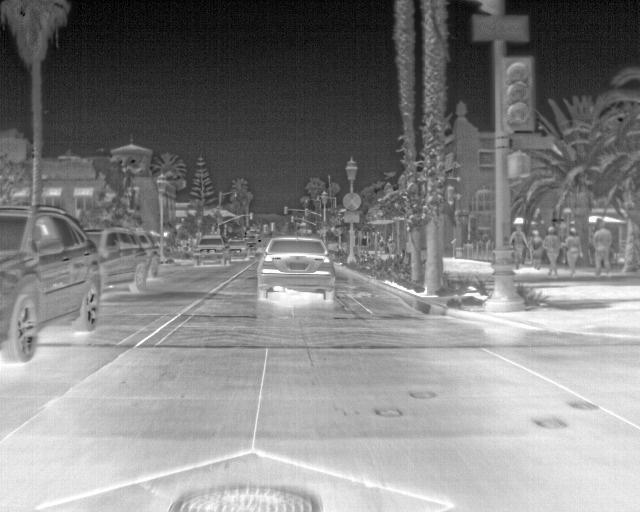bicycle: (0, 201, 101, 362), (257, 234, 335, 305), (86, 227, 146, 292), (191, 232, 230, 268), (226, 236, 248, 260)
empty: (589, 219, 613, 273), (559, 224, 583, 271), (509, 221, 529, 272), (541, 224, 559, 271), (525, 225, 542, 268)
